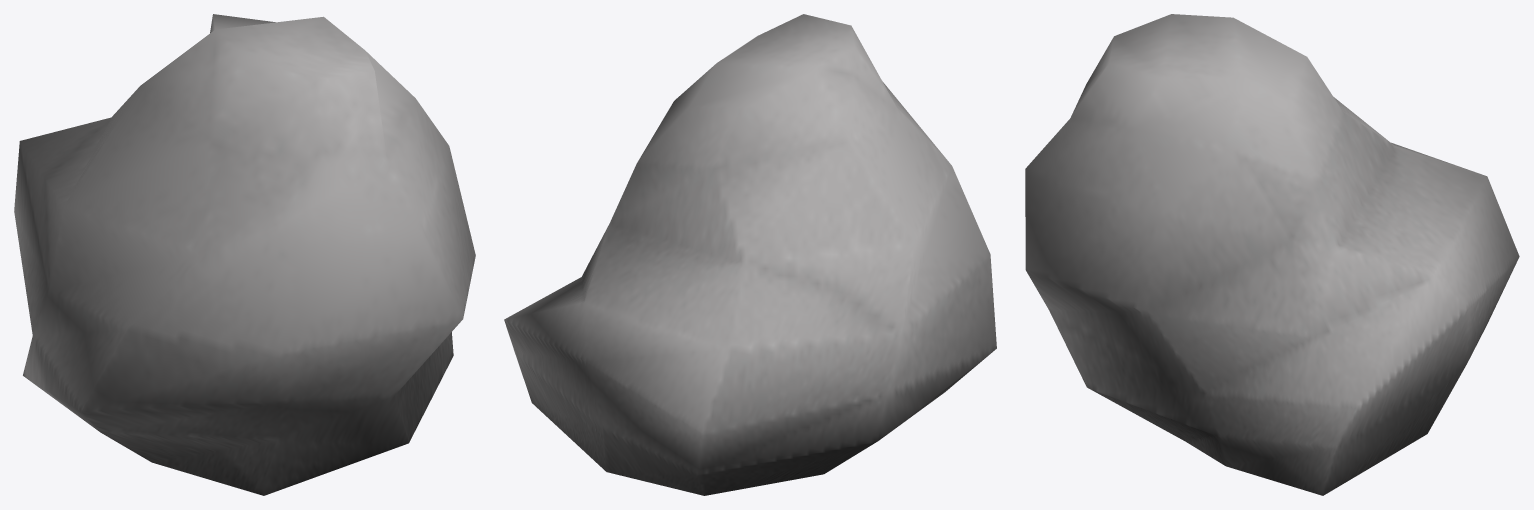
File: Rock_04.fbx
3 views of the same model, side by side, from view 1: azimuth 30°, elevation 25°; view 2: azimuth 150°, elevation 25°; view 3: azimuth 270°, elevation 25° (orthographic). The views are drawn at different scales.
Parts seen in each view (by area): view 1: Rock_07; view 2: Rock_07; view 3: Rock_07.
Boxes of the visible parts, x1,y1,x2,y2 form: Rock_07: (14,14,475,495); Rock_07: (504,14,996,495); Rock_07: (1025,14,1519,495).
Bounding box in the file's own units: 0.0732 × 0.0634 × 0.0786.
